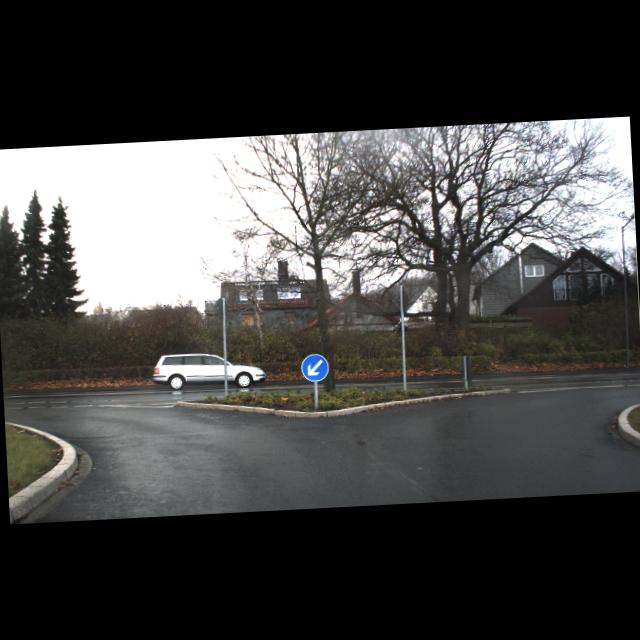mandatory: (301, 353, 330, 382)
